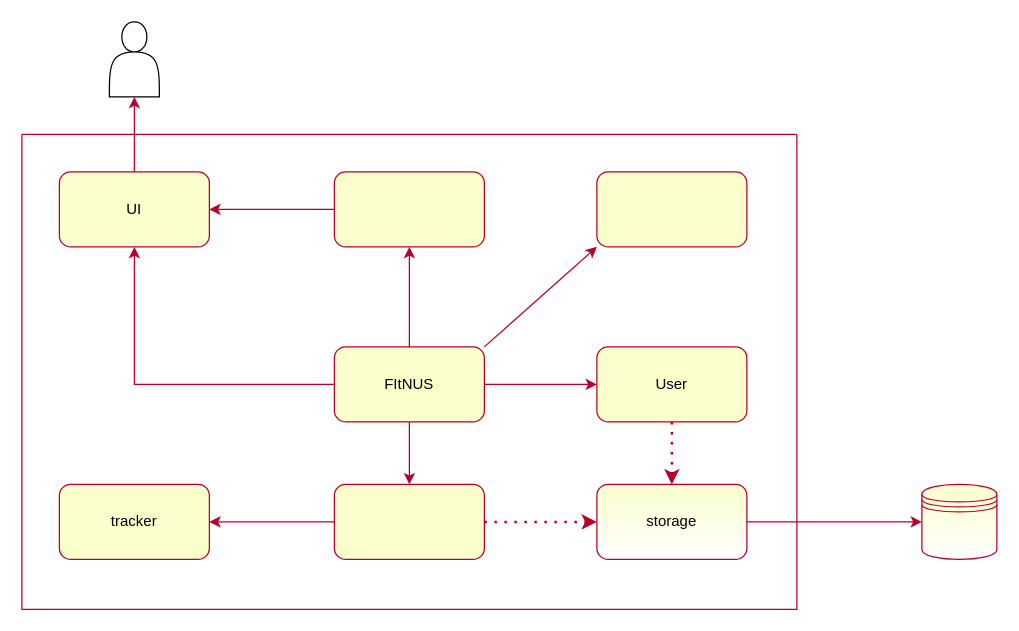
The diagram is 1019 pixels wide and 631 high, and some of its shapes have lost their labels. The box of each missing label's shape, as (x1, y1, x2, y2) in pixels:
command: (596, 171, 747, 247)
database: (333, 483, 484, 559)
parser: (333, 171, 484, 247)
